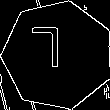L_S: (42, 30, 74, 81)
